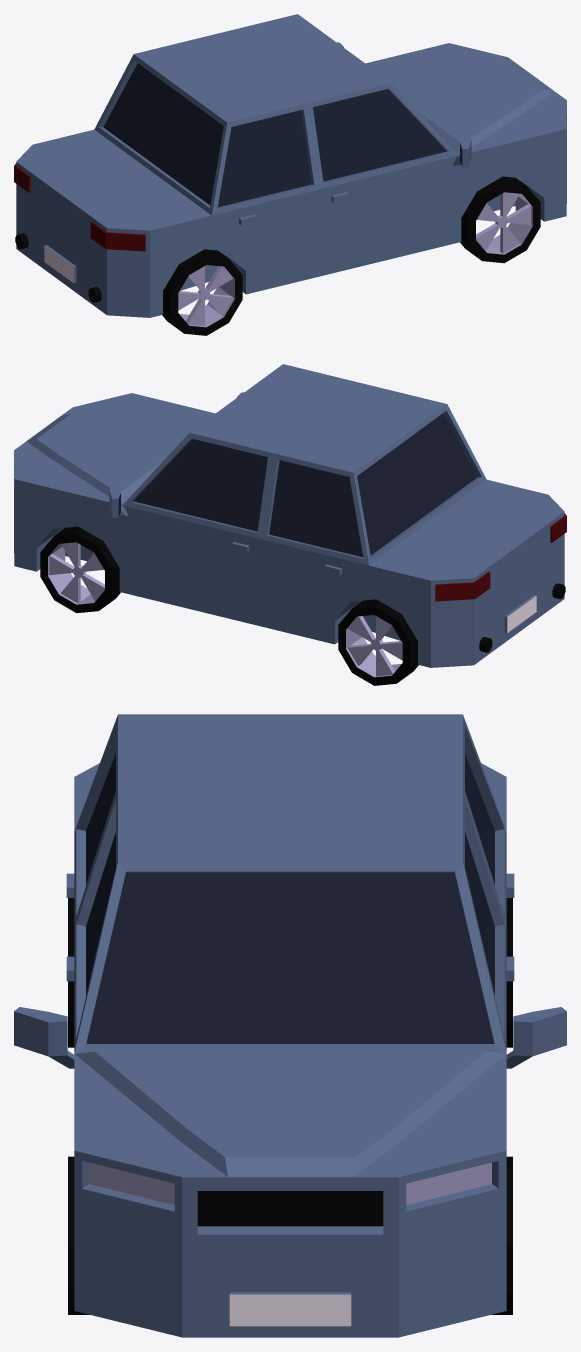
The model's file is sedan.glb.
3 renders of one model, top to bottom at view 1: azimuth 30°, elevation 25°; view 2: azimuth 150°, elevation 25°; view 3: azimuth 270°, elevation 25°, orthographic. The views are drawn at different scales.
Visible parts, largest first — view 1: body_paint, body_glass, wheel_rr_tire (×2), wheel_fr_tire (×2), wheel_rr_rim (×2), wheel_fr_rim, body_tail, body_chrome; view 2: body_paint, body_glass, wheel_rl_tire (×2), wheel_fl_tire (×2), wheel_rl_rim (×2), wheel_fl_rim, body_tail, body_chrome; view 3: body_paint, body_glass, body_trim, body_chrome, body_lamp, wheel_rr_tire, wheel_rl_tire.
Part boxes in pixels (x1,y1,x2,y2): body_paint: (16,14,566,317); body_glass: (103,63,462,207); wheel_rr_tire (×2): (162,249,242,335); wheel_fr_tire (×2): (460,176,540,263); wheel_rr_rim (×2): (178,266,234,327); wheel_fr_rim: (476,192,532,254); body_tail: (14,163,145,251); body_chrome: (44,246,73,282); body_paint: (14,364,564,667); body_glass: (118,413,477,557); wheel_rl_tire (×2): (338,599,418,685); wheel_fl_tire (×2): (40,526,120,613); wheel_rl_rim (×2): (346,616,402,677); wheel_fl_rim: (48,542,104,604); body_tail: (435,513,566,601); body_chrome: (507,596,536,632); body_paint: (14,714,566,1337); body_glass: (86,753,494,1043); body_trim: (197,1191,383,1226); body_chrome: (229,1294,351,1326); body_lamp: (89,1162,491,1204); wheel_rr_tire: (68,898,74,1047); wheel_rl_tire: (506,898,512,1047).
Bounding box in the file's own units: 5.23 × 2.01 × 2.81.
